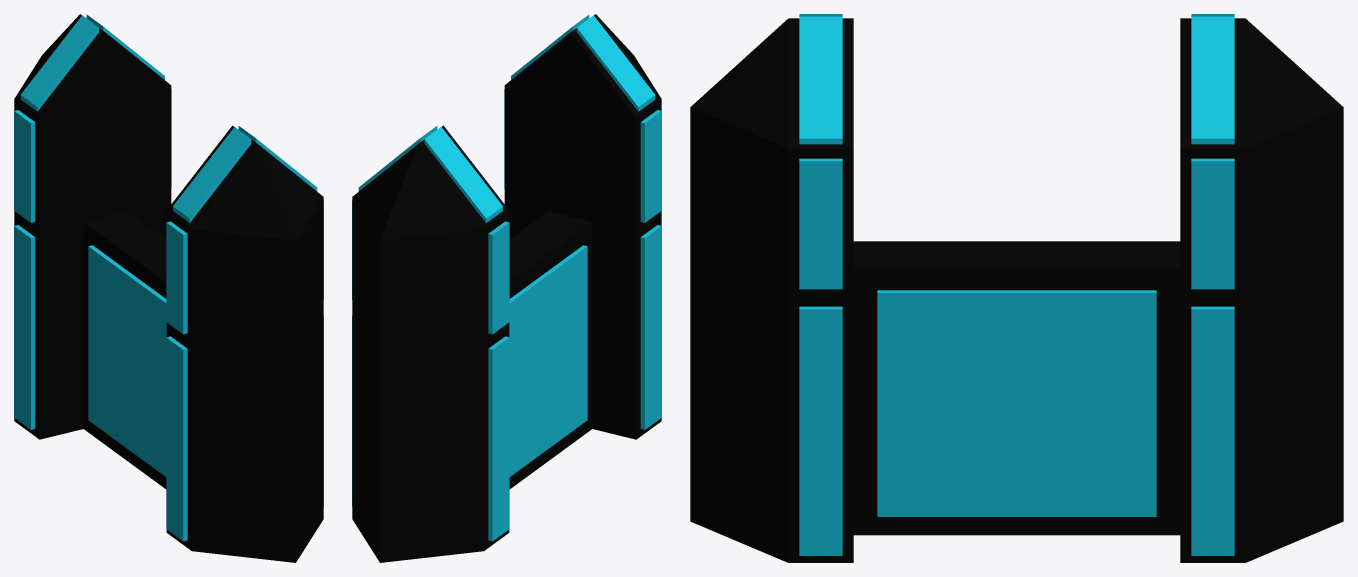
Rendered from SmallFence.glb.
3 views of the same model, side by side, from view 1: azimuth 30°, elevation 25°; view 2: azimuth 150°, elevation 25°; view 3: azimuth 270°, elevation 25° (orthographic). The views are drawn at different scales.
Visible parts, largest first — view 1: Divider.005, Divider.019, Divider.018, Divider.016, Divider.007, Divider.010, Divider.015, Divider.017, Divider.009; view 2: Divider.005, Divider.019, Divider.016, Divider.018, Divider.010, Divider.007, Divider.015, Divider.017, Divider.006; view 3: Divider.005, Divider.020, Divider.011, Divider.014, Divider.012, Divider.013, Divider.006, Divider.009.
Boxes of the visible parts, x1=… form: Divider.005: x1=14, y1=14, x2=323, y2=562; Divider.019: x1=88, y1=245, x2=166, y2=476; Divider.018: x1=166, y1=336, x2=187, y2=541; Divider.016: x1=14, y1=225, x2=35, y2=429; Divider.007: x1=20, y1=15, x2=99, y2=111; Divider.010: x1=173, y1=127, x2=251, y2=222; Divider.015: x1=14, y1=110, x2=35, y2=222; Divider.017: x1=166, y1=221, x2=187, y2=334; Divider.009: x1=238, y1=126, x2=317, y2=191; Divider.005: x1=352, y1=14, x2=661, y2=562; Divider.019: x1=509, y1=245, x2=587, y2=476; Divider.016: x1=488, y1=336, x2=509, y2=541; Divider.018: x1=640, y1=225, x2=661, y2=429; Divider.010: x1=576, y1=15, x2=655, y2=111; Divider.007: x1=424, y1=127, x2=502, y2=222; Divider.015: x1=488, y1=221, x2=509, y2=334; Divider.017: x1=640, y1=110, x2=661, y2=222; Divider.006: x1=358, y1=126, x2=437, y2=191; Divider.005: x1=690, y1=18, x2=1343, y2=562; Divider.020: x1=877, y1=290, x2=1156, y2=516; Divider.011: x1=1191, y1=306, x2=1234, y2=555; Divider.014: x1=799, y1=306, x2=842, y2=555; Divider.012: x1=1191, y1=158, x2=1234, y2=289; Divider.013: x1=799, y1=158, x2=842, y2=289; Divider.006: x1=1191, y1=16, x2=1234, y2=144; Divider.009: x1=799, y1=16, x2=842, y2=144.
Bounding box in the file's own units: 0.64 × 1.71 × 2.
